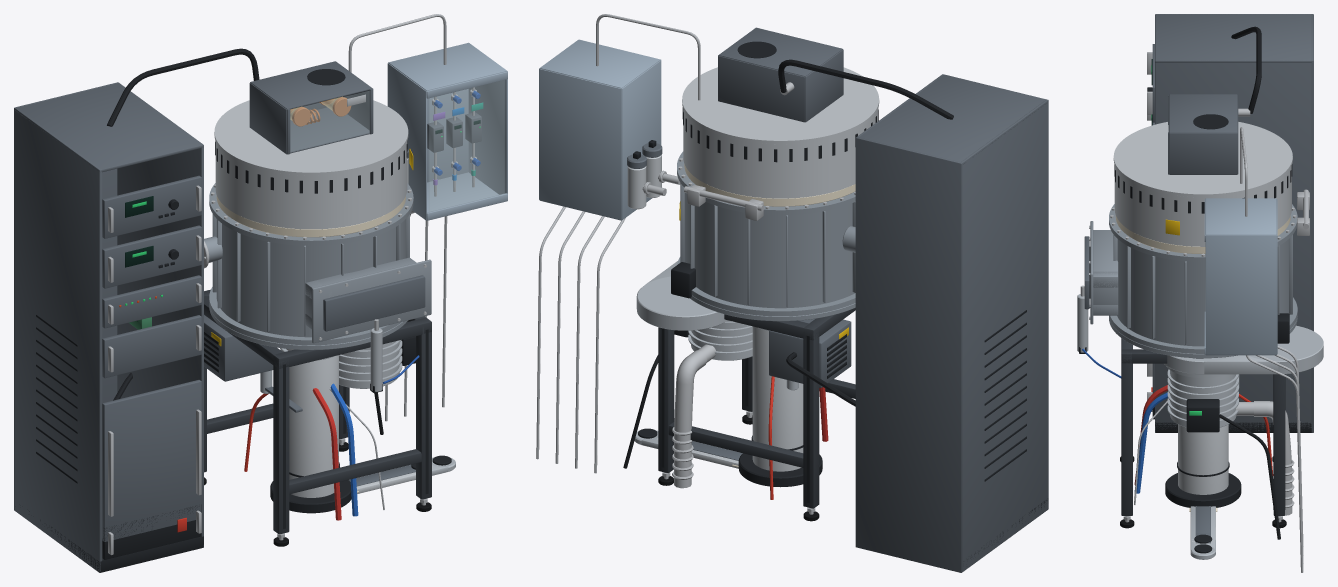
File: etcher_detail.glb
The picture shows the model from 3 angles, left to right: view 1: azimuth 30°, elevation 25°; view 2: azimuth 150°, elevation 25°; view 3: azimuth 270°, elevation 25°; orthographic projection. The views are drawn at different scales.
Parts seen in each view (by area): view 1: rack, gasbox, rfcover, chamber, frame, srcmatch, atm_base, slit, slit__door, biasmatch, turbo, lines (+4 smaller); view 2: rack, gasbox, chamber, rfcover, srcmatch, frame, atm_base, turbo, pendulum, biasmatch, cmg, window (+3 smaller); view 3: rack, gasbox, rfcover, chamber, srcmatch, turbo, frame, atm_base, pendulum, slit, lines, vtm_l1 (+3 smaller).
Part boxes in pixels (x1,y1,x2,y2): rack: (14, 82, 203, 572); gasbox: (348, 14, 507, 421); rfcover: (214, 100, 413, 229); chamber: (209, 183, 413, 349); frame: (204, 289, 431, 546); srcmatch: (107, 48, 373, 154); atm_base: (270, 348, 351, 513); slit: (305, 257, 431, 393); slit__door: (323, 275, 425, 331); biasmatch: (113, 315, 273, 400); turbo: (339, 336, 415, 434); lines: (244, 383, 384, 520); rack: (855, 74, 1048, 572); gasbox: (536, 14, 700, 473); chamber: (677, 151, 855, 321); rfcover: (682, 67, 879, 198); srcmatch: (718, 27, 953, 122); frame: (658, 308, 855, 521); atm_base: (738, 326, 822, 487); turbo: (623, 320, 752, 488); pendulum: (636, 261, 727, 330); biasmatch: (769, 318, 855, 406); cmg: (627, 140, 680, 209); window: (684, 164, 855, 206); rack: (1147, 14, 1313, 432); gasbox: (1204, 127, 1303, 572); rfcover: (1113, 122, 1292, 246); chamber: (1109, 189, 1309, 358); srcmatch: (1168, 26, 1261, 174); turbo: (1166, 366, 1294, 539); frame: (1120, 338, 1286, 528); atm_base: (1165, 424, 1241, 507); pendulum: (1164, 313, 1323, 374); slit: (1077, 221, 1121, 378); lines: (1134, 385, 1273, 504); vtm_l1: (1190, 506, 1215, 559).
Bounding box in the file's own units: 1.83 × 1.76 × 0.972.
